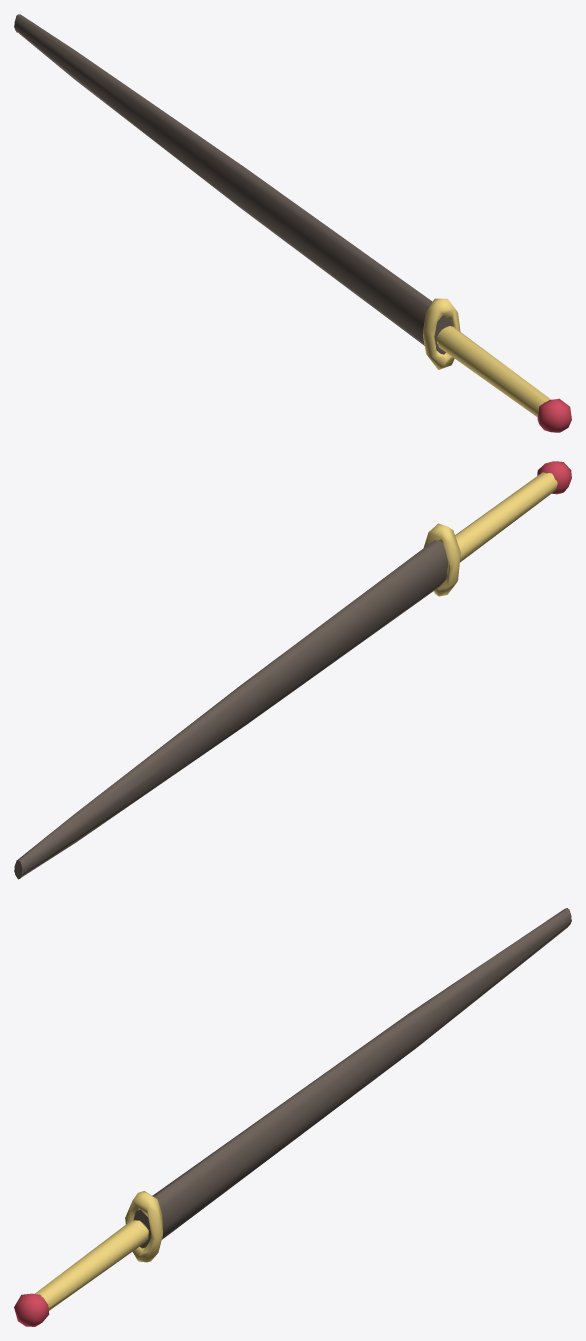
Rendered from ganondorf_sword_LOD0.dae.
3 renders of one model, top to bottom at view 1: azimuth 30°, elevation 25°; view 2: azimuth 150°, elevation 25°; view 3: azimuth 330°, elevation 25°, orthographic.
Visible parts, largest first — view 1: GanondorfSword_LOD0; view 2: GanondorfSword_LOD0; view 3: GanondorfSword_LOD0.
Boxes of the visible parts, x1,y1,x2,y2 form: GanondorfSword_LOD0: (14,14,571,432); GanondorfSword_LOD0: (14,461,571,879); GanondorfSword_LOD0: (14,908,571,1326).
Bounding box in the file's own units: 0.0452 × 1.26 × 0.0882.
